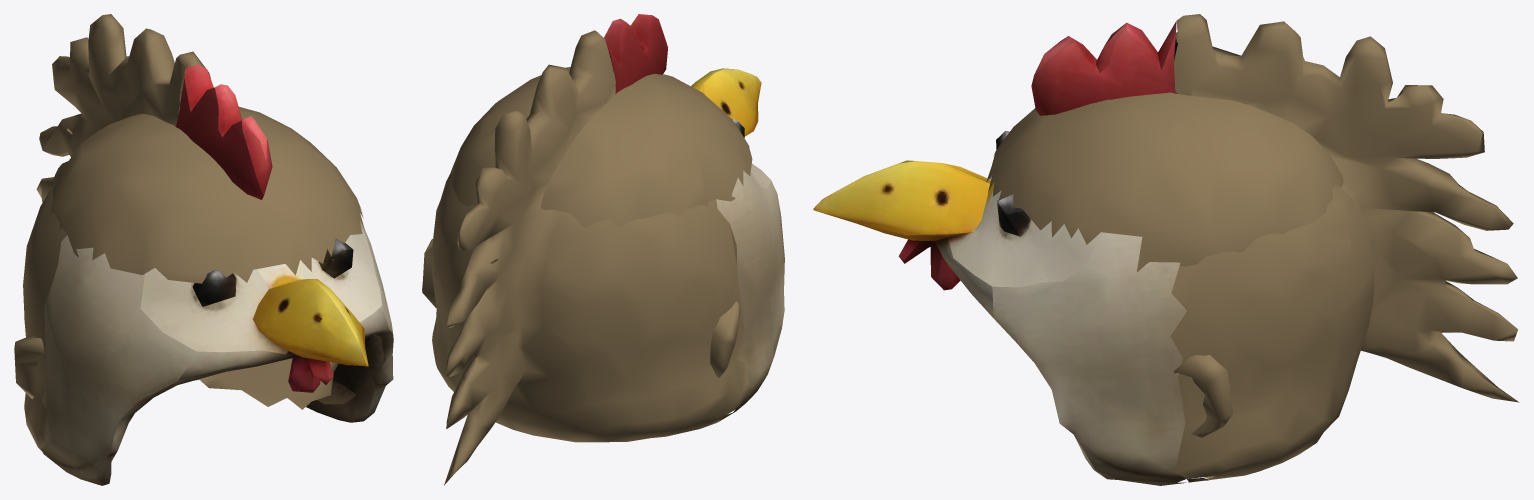
Rendered from chicken.glb.
3 views of the same model, side by side, from view 1: azimuth 30°, elevation 25°; view 2: azimuth 150°, elevation 25°; view 3: azimuth 270°, elevation 25° (orthographic). The views are drawn at different scales.
Parts seen in each view (by area): view 1: geometry_0, HoodAnatomicalLining; view 2: geometry_0, HoodAnatomicalLining; view 3: geometry_0, HoodAnatomicalLining.
Part boxes in pixels (left/top/right/bottom): geometry_0: left=23, top=14, right=393, bottom=485; HoodAnatomicalLining: left=14, top=106, right=364, bottom=409; geometry_0: left=431, top=14, right=784, bottom=485; HoodAnatomicalLining: left=422, top=67, right=752, bottom=377; geometry_0: left=813, top=14, right=1519, bottom=485; HoodAnatomicalLining: left=986, top=92, right=1343, bottom=437.
Bounding box in the file's own units: 0.4707 × 0.5177 × 0.8206.
Materials: 2 (1 with a texture image).
